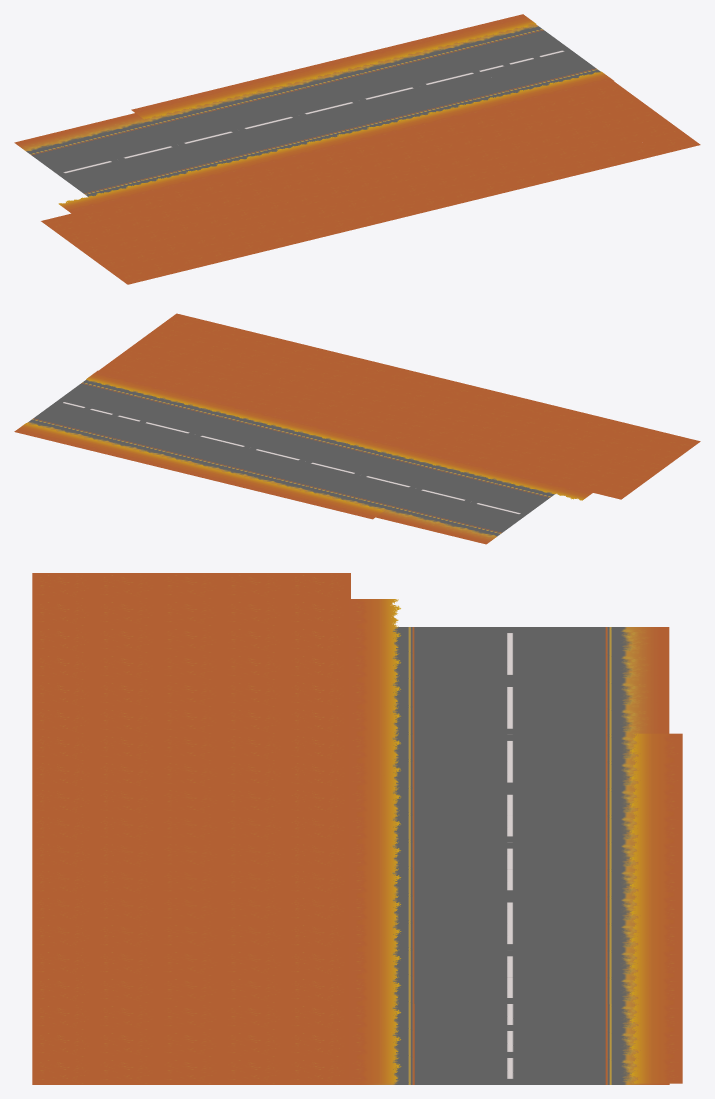
The model's file is ScrollingRoad.fbx.
The picture shows the model from 3 angles, top to bottom: view 1: azimuth 30°, elevation 25°; view 2: azimuth 150°, elevation 25°; view 3: azimuth 270°, elevation 25°; orthographic projection. The views are drawn at different scales.
Visible parts, largest first — view 1: Floor2x86, Floor2x135, Floor2x114 (4), Floor2x94, Floor2x58 (3), Floor2x53, Floor2x154, Floor2x27, Floor2x19, Floor2x7, Floor2x126, Floor2x120 (+138 smaller); view 2: Floor2x58 (2), Floor2x147, Floor2x52, Floor2x64, Floor2x47, Floor2x20, Floor2x13, Floor2x26, Floor2x61 (3), Floor2x110, Floor2x134, Floor2x121 (+138 smaller); view 3: Road_Alpha (×18), Floor2x22, Floor2x42, Floor2x39, Floor2x64, Floor2x9, Floor2x31, Floor2x19, Floor2x14, Floor2x34, Floor2x97, Floor2x96 (+165 smaller).
Part boxes in pixels (bbox=[...]): Floor2x86: bbox=[390, 145, 436, 165]; Floor2x135: bbox=[153, 237, 200, 257]; Floor2x114 (4): bbox=[636, 119, 683, 139]; Floor2x94: bbox=[377, 165, 424, 185]; Floor2x58 (3): bbox=[501, 50, 548, 70]; Floor2x53: bbox=[92, 133, 138, 153]; Floor2x154: bbox=[66, 173, 113, 193]; Floor2x27: bbox=[303, 82, 350, 101]; Floor2x19: bbox=[247, 129, 294, 149]; Floor2x7: bbox=[182, 111, 229, 131]; Floor2x126: bbox=[382, 198, 428, 218]; Floor2x120: bbox=[472, 176, 519, 196]; Floor2x58 (2): bbox=[104, 408, 147, 426]; Floor2x147: bbox=[463, 496, 506, 514]; Floor2x52: bbox=[436, 489, 478, 507]; Floor2x64: bbox=[176, 410, 218, 428]; Floor2x47: bbox=[392, 494, 434, 512]; Floor2x20: bbox=[309, 474, 352, 492]; Floor2x13: bbox=[364, 487, 407, 505]; Floor2x26: bbox=[282, 467, 324, 485]; Floor2x61 (3): bbox=[93, 390, 135, 408]; Floor2x110: bbox=[338, 372, 380, 390]; Floor2x134: bbox=[570, 444, 613, 462]; Floor2x121: bbox=[492, 394, 534, 412]; Road_Alpha (×18): bbox=[348, 599, 401, 1083]; Floor2x22: bbox=[414, 815, 478, 842]; Floor2x42: bbox=[414, 923, 478, 950]; Floor2x39: bbox=[414, 896, 478, 923]; Floor2x64: bbox=[414, 950, 478, 977]; Floor2x9: bbox=[414, 761, 478, 788]; Floor2x31: bbox=[414, 869, 478, 896]; Floor2x19: bbox=[414, 788, 478, 815]; Floor2x14: bbox=[414, 734, 478, 761]; Floor2x34: bbox=[414, 842, 478, 869]; Floor2x97: bbox=[159, 734, 223, 761]; Floor2x96: bbox=[159, 896, 223, 923].
Bounding box in the file's own units: 91.2 × 0.1 × 49.
Materials: 5 (5 with a texture image).
